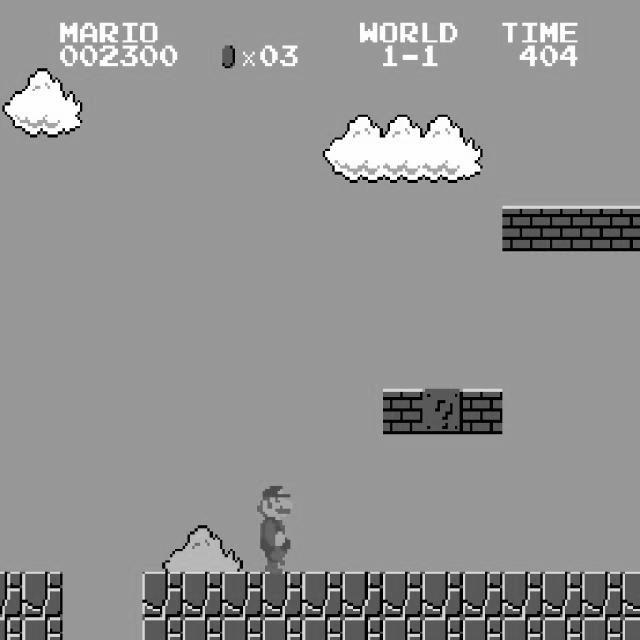0- big_mario: (252, 480, 295, 574)
1- brick_block: (382, 388, 423, 434), (462, 388, 503, 434), (502, 206, 543, 251), (542, 206, 583, 251), (582, 206, 623, 251), (622, 205, 640, 251)
13- mystery_block: (422, 388, 463, 434)
17- undestructible_block: (22, 572, 63, 618), (142, 572, 183, 618), (182, 572, 223, 618), (222, 572, 263, 618), (262, 572, 303, 618), (302, 572, 343, 618), (342, 572, 383, 618), (382, 572, 423, 618), (422, 572, 463, 618), (462, 572, 503, 618), (502, 572, 543, 618), (542, 572, 583, 618), (582, 572, 623, 618), (0, 572, 22, 618), (22, 617, 63, 640), (142, 617, 183, 640), (182, 617, 223, 640), (222, 617, 263, 640), (262, 617, 303, 640), (302, 617, 343, 640), (342, 617, 383, 640), (382, 617, 423, 640), (422, 617, 463, 640), (462, 617, 503, 640), (502, 617, 543, 640), (542, 617, 583, 640), (582, 617, 623, 640), (622, 571, 640, 617), (0, 617, 22, 640), (622, 617, 640, 639)
